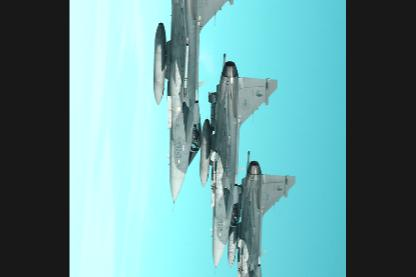JAS39: (153, 0, 244, 213), (201, 53, 279, 275), (228, 149, 297, 275)
